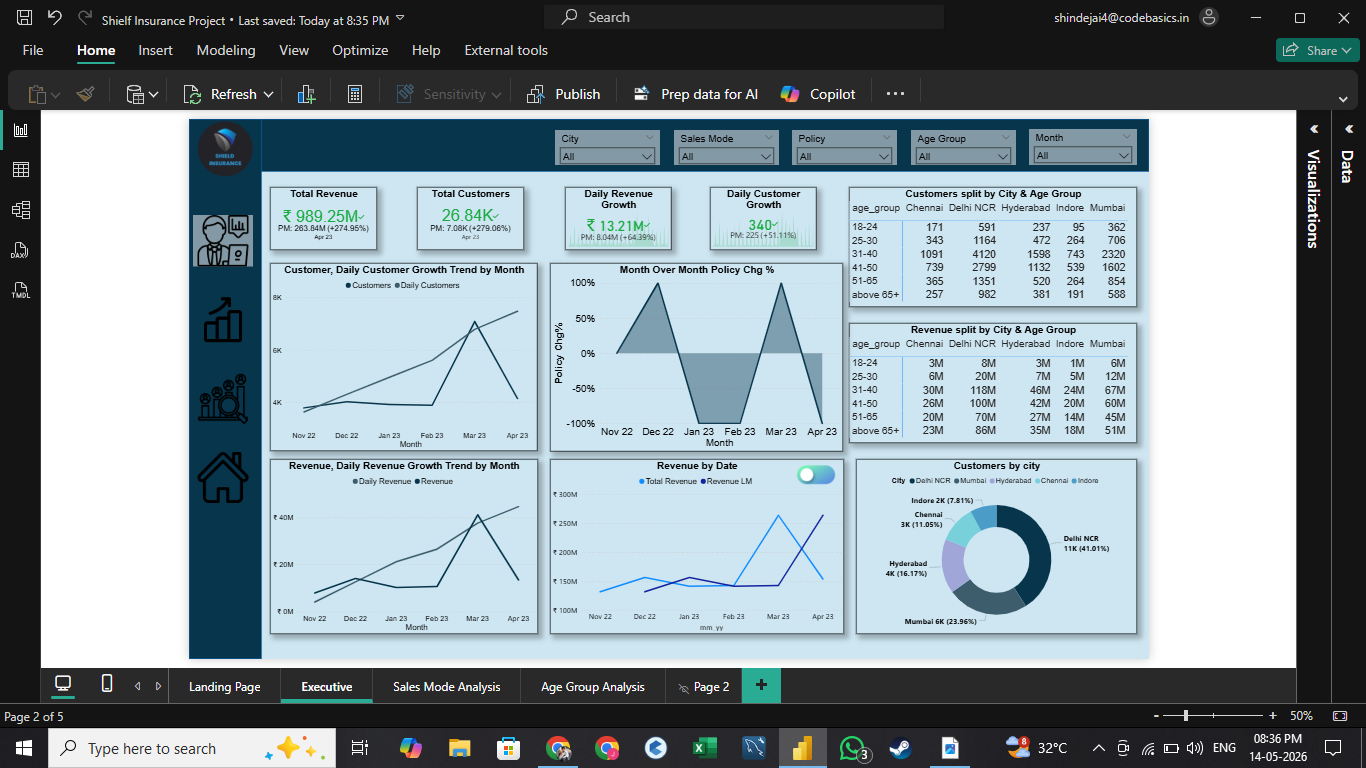

The dashboard page shown, as its layout file describes it:
{"tool":"powerbi","page":{"name":"Executive","canvas":[1920,1080],"ordinal":1},"visuals":[{"type":"donutChart","title":"Customers by city","fields":{"Y":["Key Measures.Total Customers"],"Category":["dim_customer.city"]},"box":[1334,679.9,562,350],"z":0},{"type":"lineChart","title":"Revenue by Date","fields":{"Y":["Key Measures.Total Revenue","Key Measures.Revenue LY"],"Category":["dim_date.mm_yy","dim_date.date"]},"box":[722.5,680,587.5,350],"z":0,"group":"g2"},{"type":"kpi","title":"Total Revenue","fields":{"TrendLine":["dim_date.mm_yy"],"Goal":["Key Measures.Blank Revenue"],"Indicator":["Key Measures.TOTAL REVENUE ALL"]},"box":[162.3,136.3,213.8,125.6],"z":1000},{"type":"image","box":[1197.5,680,112.5,62.5],"z":1000,"group":"g2"},{"type":"kpi","title":"Daily Customer Growth","fields":{"Goal":["Key Measures.Blank Customer PD"],"TrendLine":["dim_date.mm_yy"],"Indicator":["Key Measures.Average Daily Customer KPI Value"]},"box":[1041.8,136.3,213,125.6],"z":2000},{"type":"lineChart","title":"Revenue, Daily Revenue Growth Trend by Month","fields":{"Y":["Sum(policy customer_revenue_growth_over_time.REVENUE)"],"Y2":["Key Measures.Total Revenue"],"Category":["dim_date.mm_yy"]},"box":[162.3,679.9,535.6,350.4],"z":3000},{"type":"pivotTable","title":"Customers split by City & Age Group","fields":{"Values":["Key Measures.Total Customers"],"Columns":["dim_customer.city"],"Rows":["dim_customer.age_group"]},"box":[1320,136.3,576,240],"z":4000},{"type":"pivotTable","title":"Revenue split by City & Age Group","fields":{"Columns":["dim_customer.city"],"Rows":["dim_customer.age_group"],"Values":["Key Measures.Total Revenue"]},"box":[1320,408.1,576,240],"z":5000},{"type":"lineChart","title":"Customer, Daily Customer Growth Trend by Month","fields":{"Category":["dim_date.mm_yy"],"Y":["Key Measures.Total Customers"],"Y2":["Max(policy customer_revenue_growth_over_time.CUSTOMER_GROWTH)"]},"box":[162.3,288,535,376],"z":6000},{"type":"kpi","title":"Total Customers","fields":{"TrendLine":["dim_date.mm_yy"],"Goal":["Key Measures.Blank Customers"],"Indicator":["Key Measures.TOTAL CUSTOMERS ALL"]},"box":[456.9,136.3,213.8,125.6],"z":7000},{"type":"kpi","title":"Daily Revenue Growth","fields":{"Goal":["Key Measures.Blank Daily Revenue PD"],"TrendLine":["dim_date.mm_yy"],"Indicator":["Key Measures.Average Daily Revenue Growth KPI Visual"]},"box":[751.6,136.3,213,125.6],"z":8000},{"type":"hundredPercentStackedAreaChart","title":"Month Over Month Policy Chg %","fields":{"Y":["Key Measures.Policy Chg %"],"Category":["dim_date.mm_yy"]},"box":[722.2,288,586.3,376.9],"z":9000},{"type":"shape","box":[0,0,1920,105],"z":10000},{"type":"shape","box":[0,0,145,1080],"z":11000},{"type":"image","box":[12,490.5,120,102.5],"z":12000},{"type":"image","box":[12,643,120,102.5],"z":13000},{"type":"image","box":[12,338,120,102.5],"z":14000},{"type":"image","box":[0,0,145.3,119.3],"z":15000},{"type":"image","box":[16,192,112,96],"z":16000},{"type":"slicer","fields":{"Values":["dim_date.mm_yy"]},"box":[1680,20.1,216,72],"z":17000},{"type":"slicer","fields":{"Values":["dim_policies.policy_id"]},"box":[1206.2,21.1,210,70],"z":18000},{"type":"slicer","fields":{"Values":["dim_customer.age_group"]},"box":[1443.1,21.1,210,70],"z":19000},{"type":"slicer","fields":{"Values":["fact_premiums.sales_mode"]},"box":[969.3,21.1,210,70],"z":20000},{"type":"slicer","fields":{"Values":["dim_customer.city"]},"box":[732.4,21.1,210,70],"z":21000},{"type":"group","id":"g1","title":"Group 1","box":[721,679.9,586,350],"z":22000},{"type":"group","id":"g2","title":"Group 2","box":[722.5,680,587.5,350],"z":23000}]}

Visuals, with their boxes on the page's 1920x1080 design canvas (x1, y1, x2, y2). These are canvas units, not pixel positions in the 1366x768 screenshot, which may show the page scaled, cropped or inside an application window:
"Customers by city" donutChart: [1334,680,1896,1030]
"Revenue by Date" lineChart: [722,680,1310,1030]
"Total Revenue" kpi: [162,136,376,262]
image: [1198,680,1310,742]
"Daily Customer Growth" kpi: [1042,136,1255,262]
"Revenue, Daily Revenue Growth Trend by Month" lineChart: [162,680,698,1030]
"Customers split by City & Age Group" pivotTable: [1320,136,1896,376]
"Revenue split by City & Age Group" pivotTable: [1320,408,1896,648]
"Customer, Daily Customer Growth Trend by Month" lineChart: [162,288,697,664]
"Total Customers" kpi: [457,136,671,262]
"Daily Revenue Growth" kpi: [752,136,965,262]
"Month Over Month Policy Chg %" hundredPercentStackedAreaChart: [722,288,1308,665]
shape: [0,0,1920,105]
shape: [0,0,145,1080]
image: [12,490,132,593]
image: [12,643,132,746]
image: [12,338,132,440]
image: [0,0,145,119]
image: [16,192,128,288]
slicer - dim_date.mm_yy: [1680,20,1896,92]
slicer - dim_policies.policy_id: [1206,21,1416,91]
slicer - dim_customer.age_group: [1443,21,1653,91]
slicer - fact_premiums.sales_mode: [969,21,1179,91]
slicer - dim_customer.city: [732,21,942,91]
"Group 1" group: [721,680,1307,1030]
"Group 2" group: [722,680,1310,1030]
